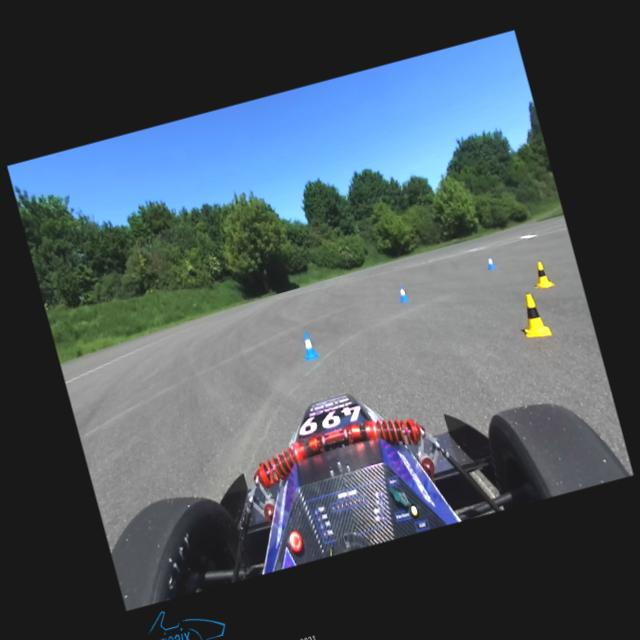blue_cone: (298, 330, 320, 360), (396, 284, 409, 302), (485, 255, 496, 269)
yellow_cone: (514, 290, 552, 341), (530, 258, 554, 290)
